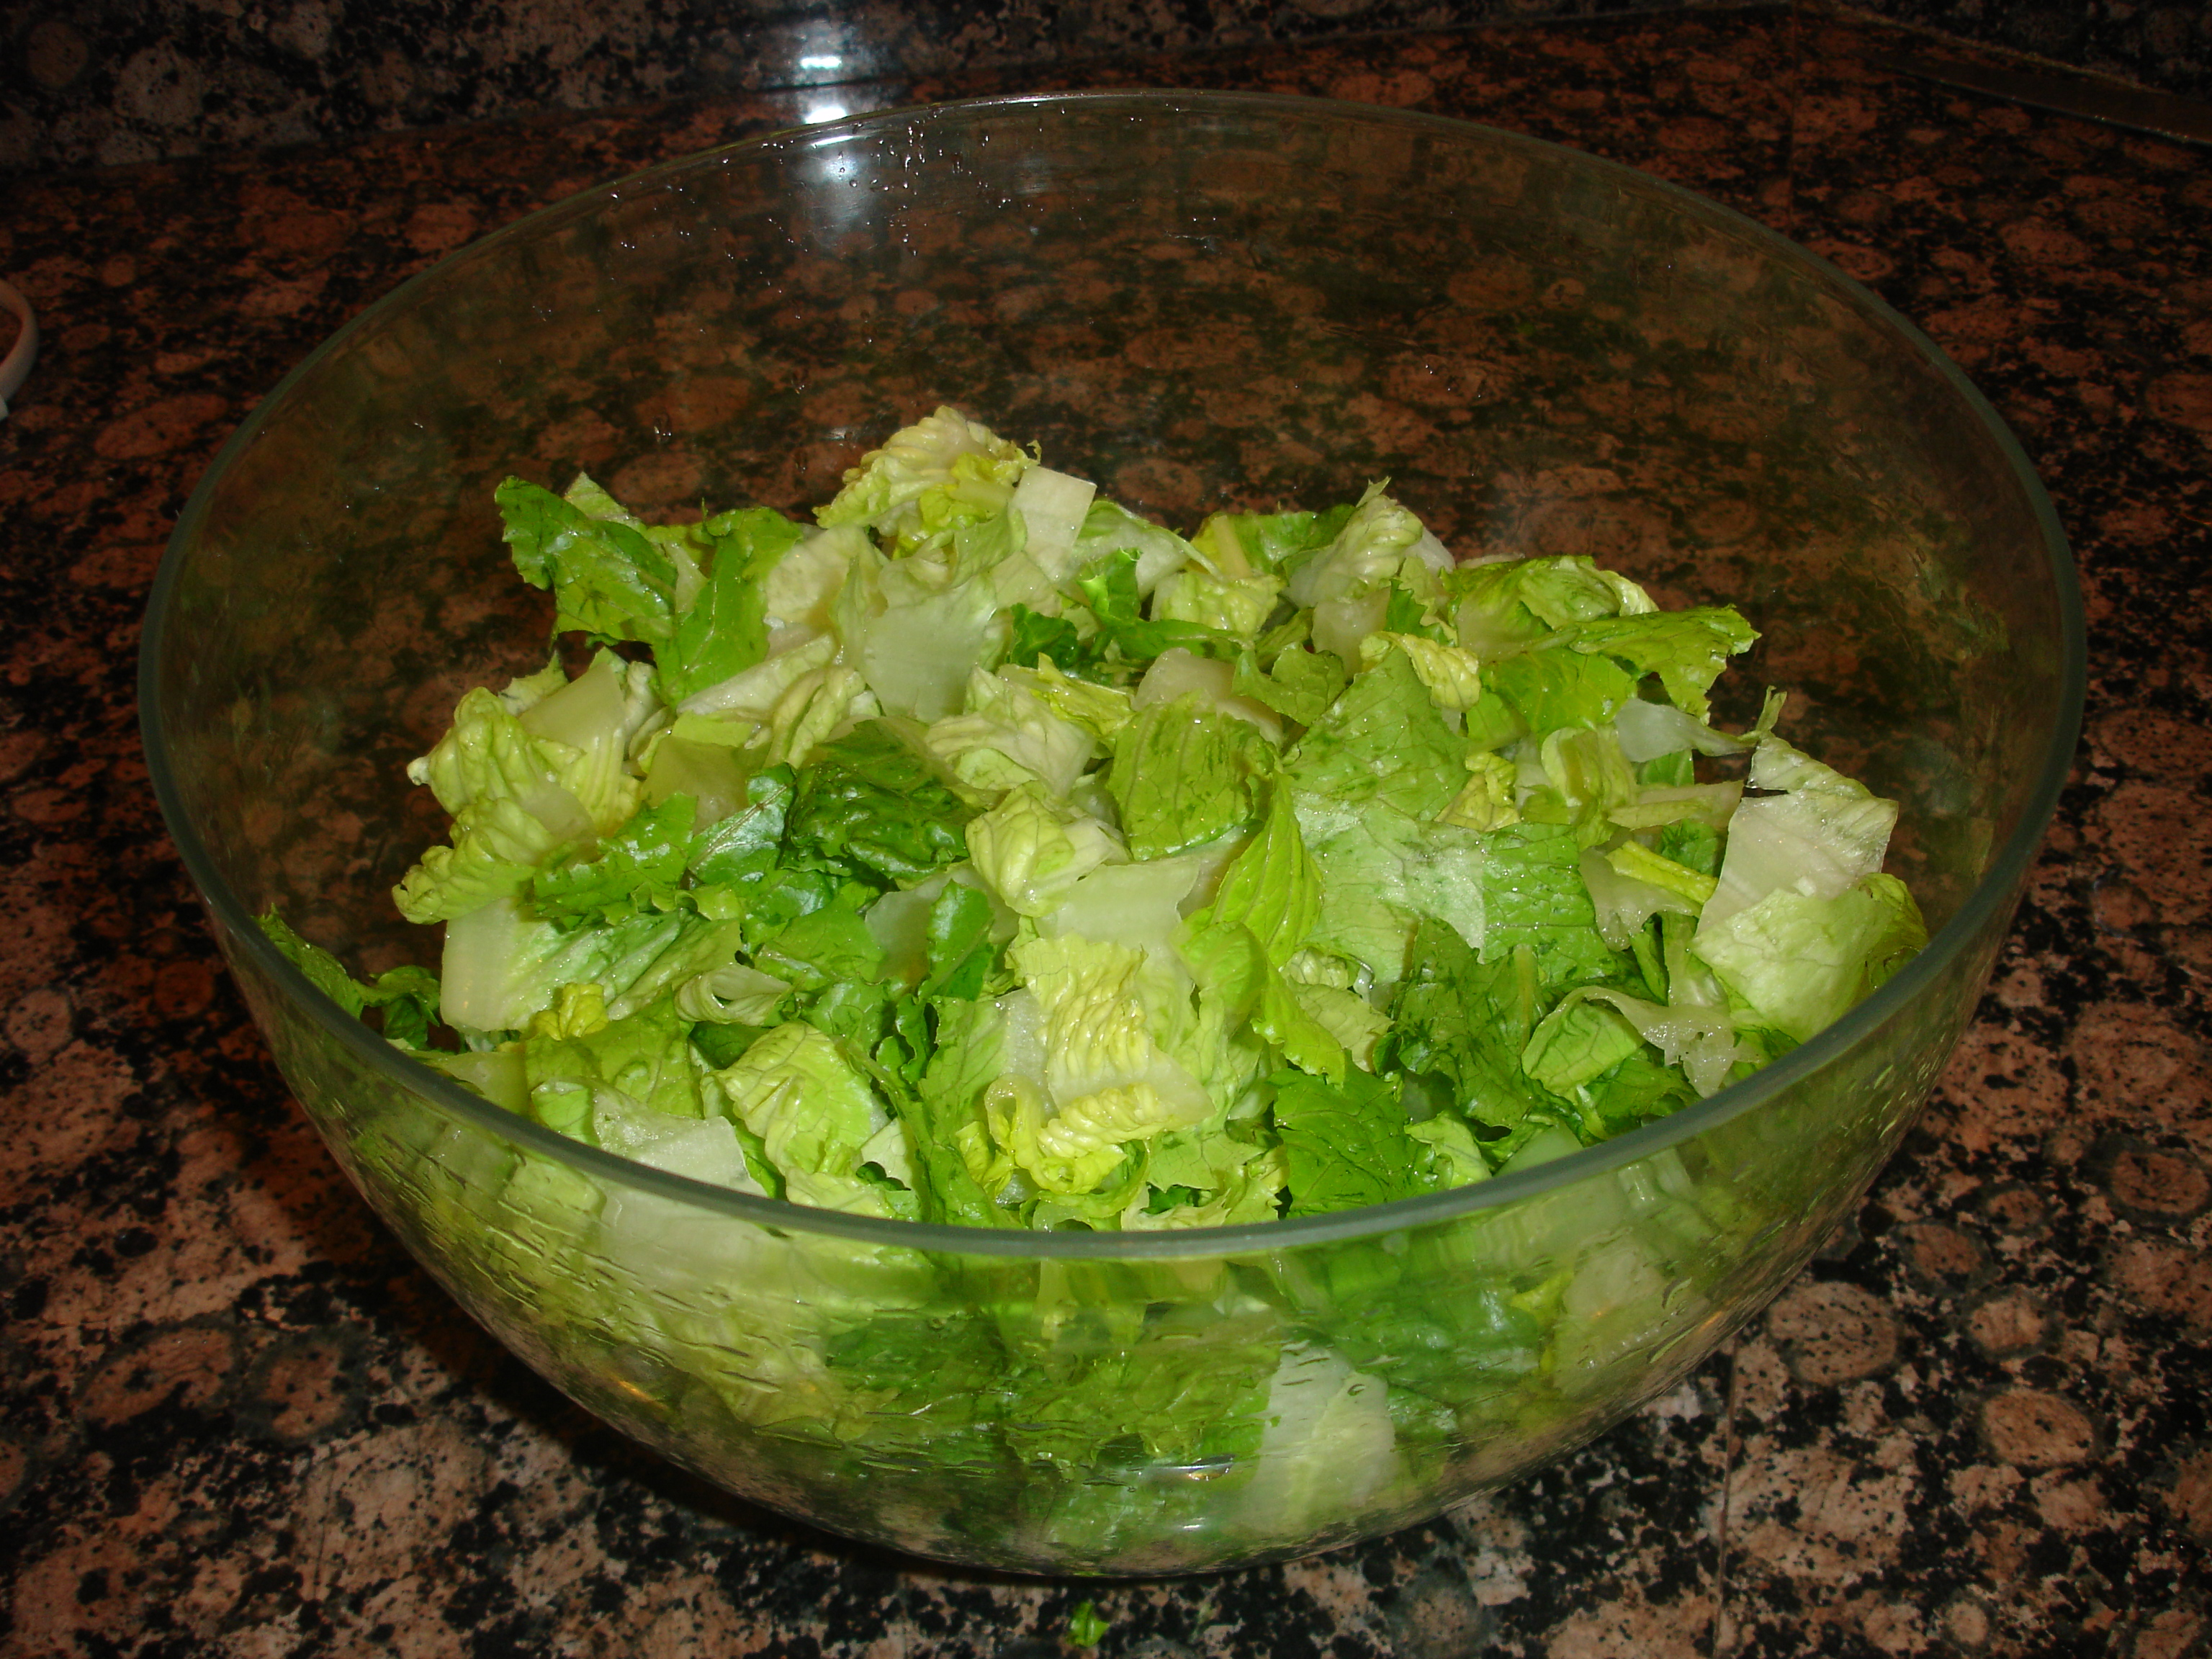chopped lettuce: (378, 472, 1843, 1262)
